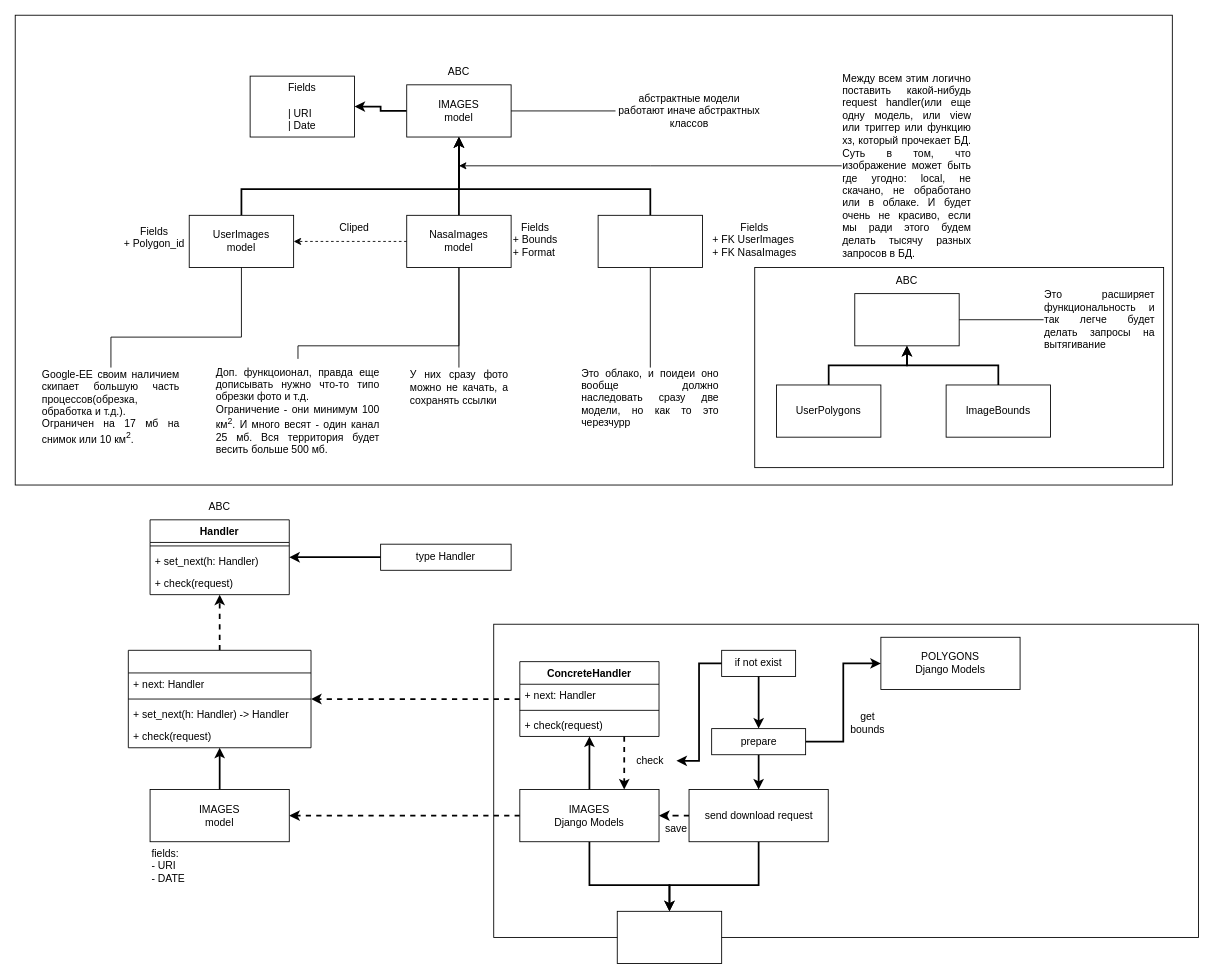
This 1214x979 diagram has some shape labels left out. Here are the shapes that lost their labels. From the top down, the box of each, then its label:
(14, 14, 1172, 485): IMAGES APP
(597, 214, 703, 268): CloudUserImages model
(854, 293, 959, 346): Polygons
(754, 267, 1164, 468): POLYGONS APP
(127, 649, 311, 748): BaseHandler
(493, 623, 1198, 937): GET /get-images/id=id&date=date&type=type
(616, 910, 722, 964): user get data
